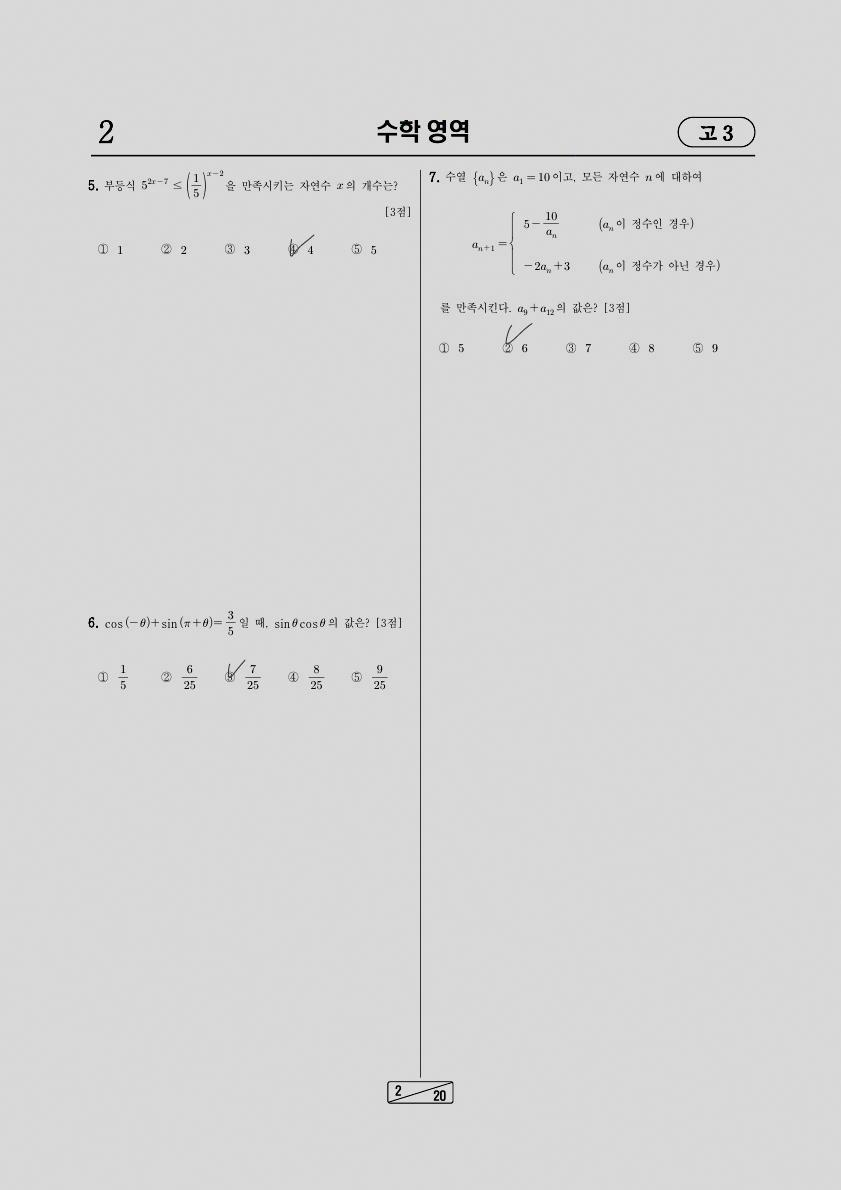question: (421, 161, 740, 373), (78, 160, 416, 276), (68, 606, 414, 708)
